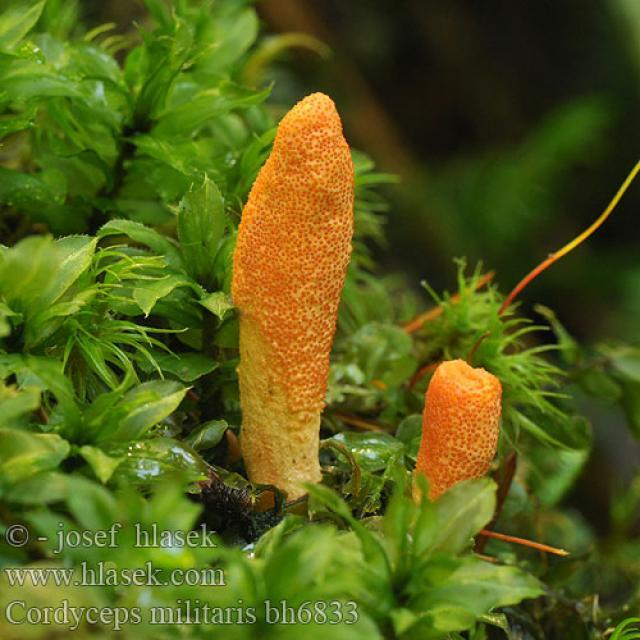Cordyceps militaris: (232, 96, 354, 494), (419, 358, 501, 519)
